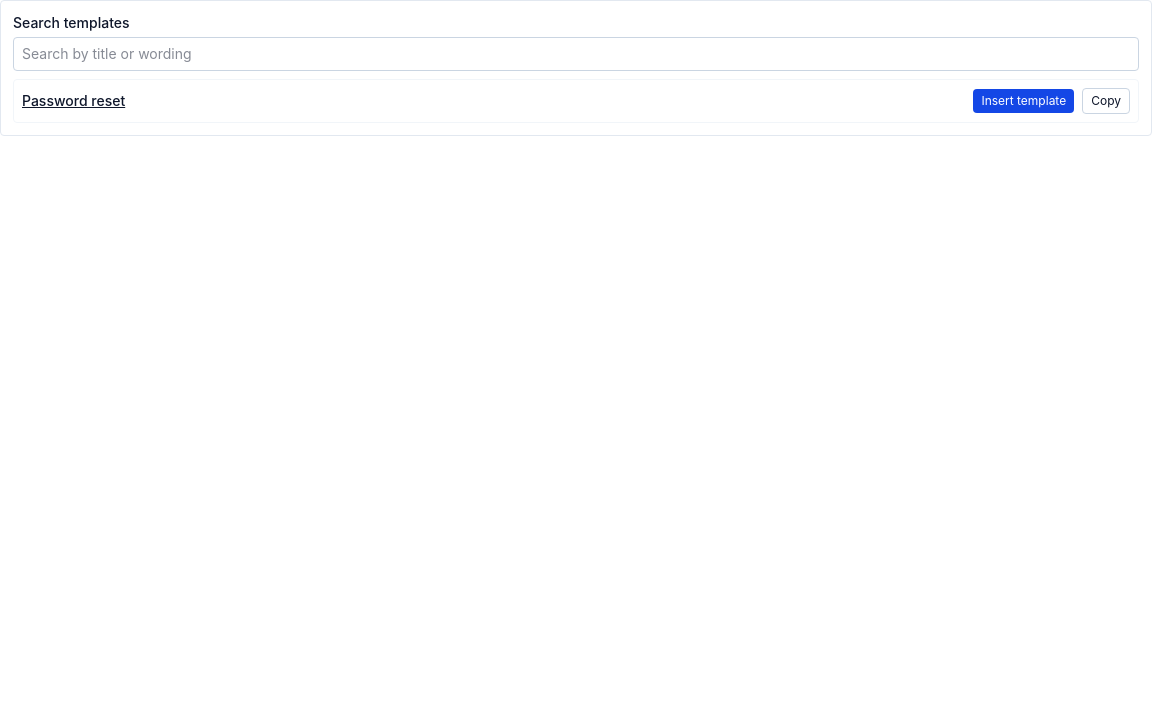
Scenario: TemplatePicker — finding and previewing › previews a template before it is used
The width and height of the screenshot is (1152, 720).
Expected: the text "I have sent you a reset link." is not shown
Click the button "Password reset" at [74, 101], box [22,91,125,111]
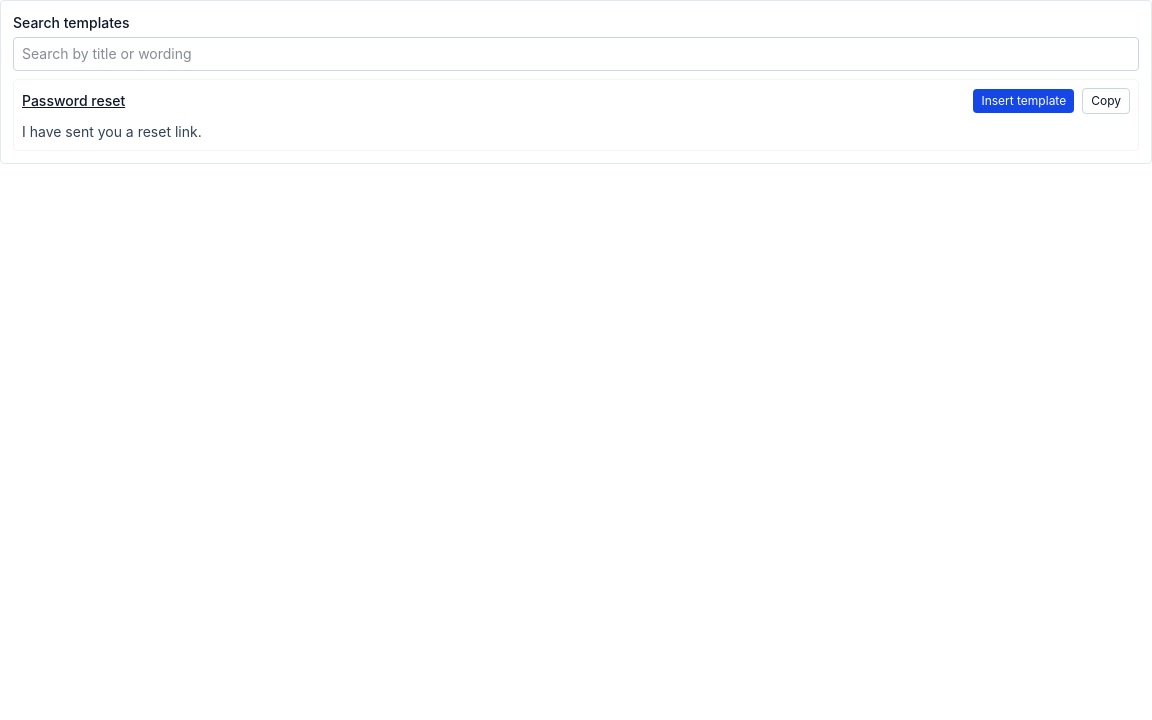
Expected: the text "I have sent you a reset link." is shown, [22,123,202,140]
